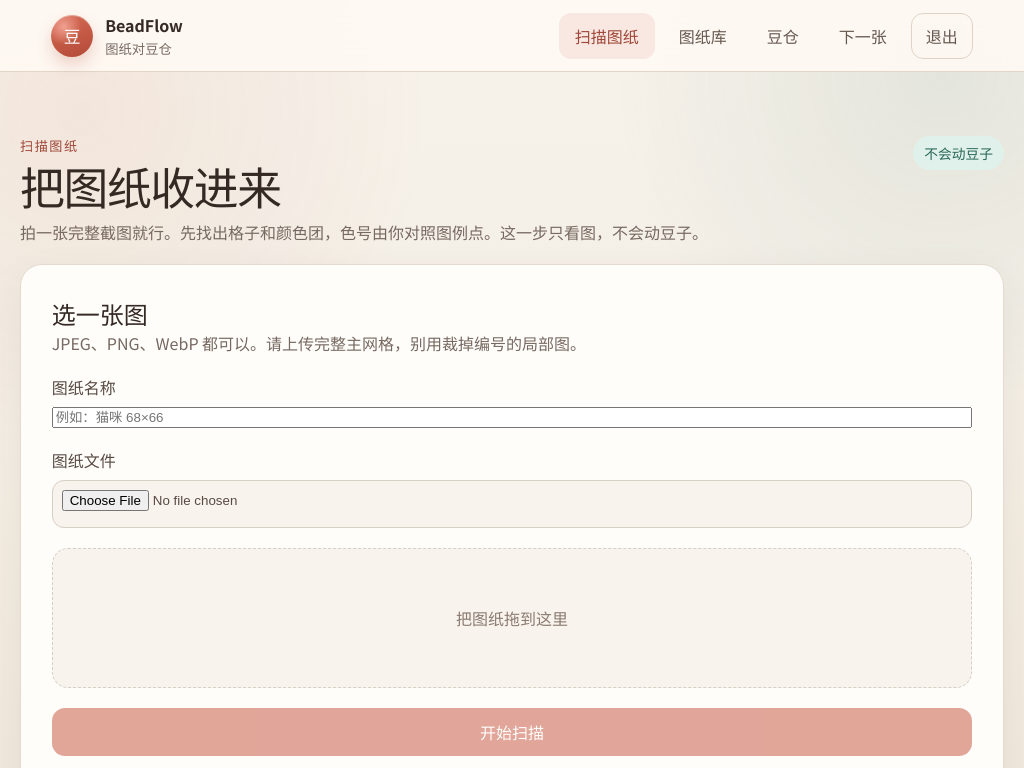
Test case: authenticated application shell › keeps the authenticated shell visible when sign-out fails
The image size is (1024, 768).
Check: the heading "把图纸收进来" is shown, box [20,153,281,218]
Click the button "退出". click: (942, 36)
box: [911,12,973,58]
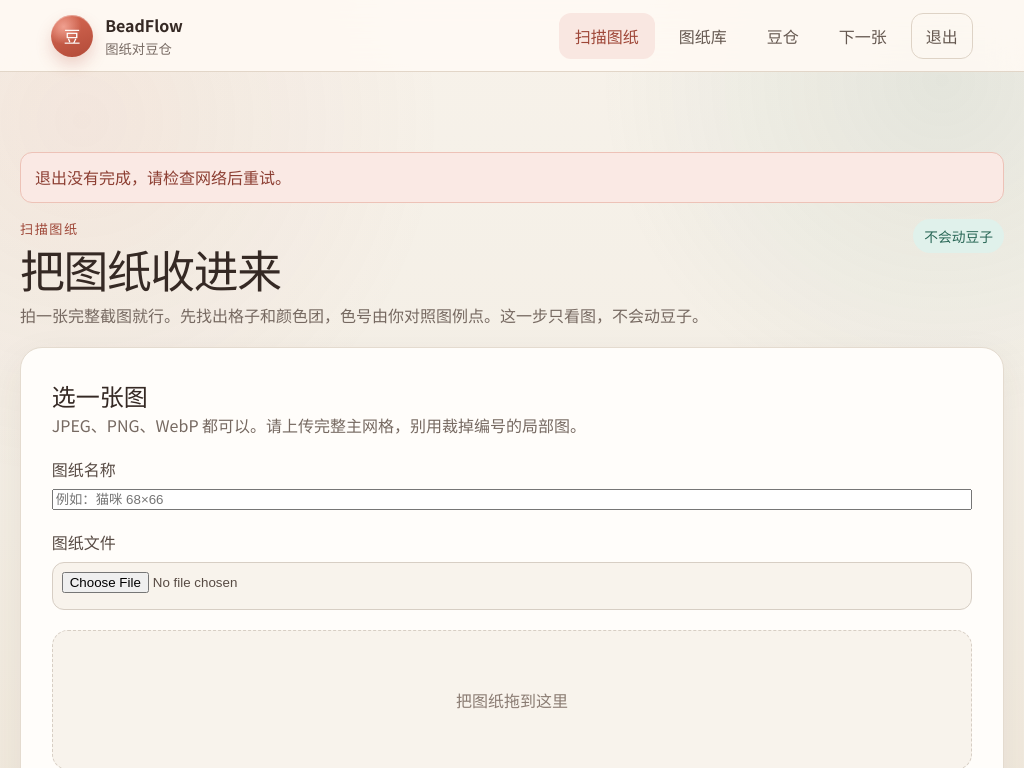
Check: the heading "把图纸收进来" is shown, box [20,236,281,301]
Check: the message shows "退出没有完成", box [35,165,291,189]
